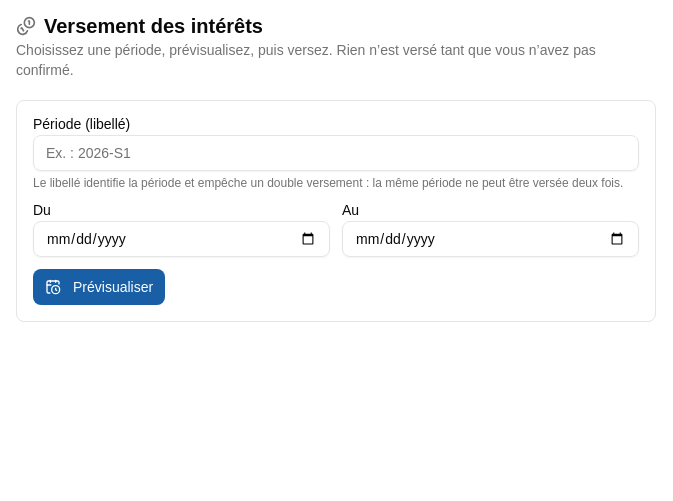
Scenario: PageVersementInterets › taux à 0 : rien à verser, mais l’écran DIT la raison (pas de silence)
Type "2026-S1" into the field labelled "Période (libellé)".
click(336, 153); type("2026-S1")  # box x1=33 y1=135 x2=639 y2=171
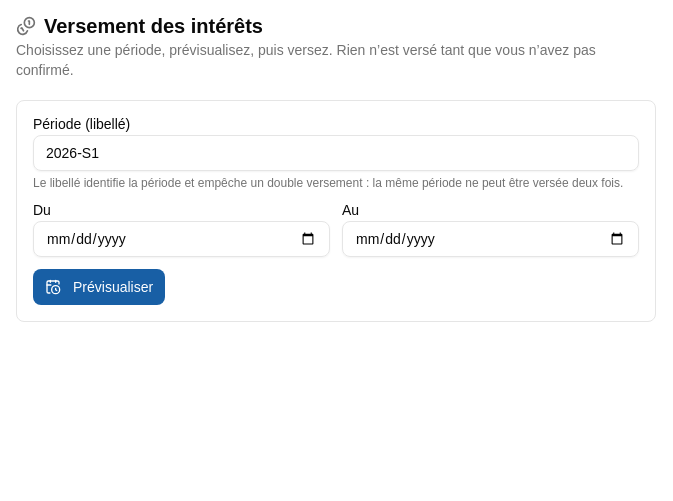
Type "2026-01-01" into the date field labelled "Du".
click(182, 239); type("2026-01-01")  # box x1=33 y1=221 x2=330 y2=257
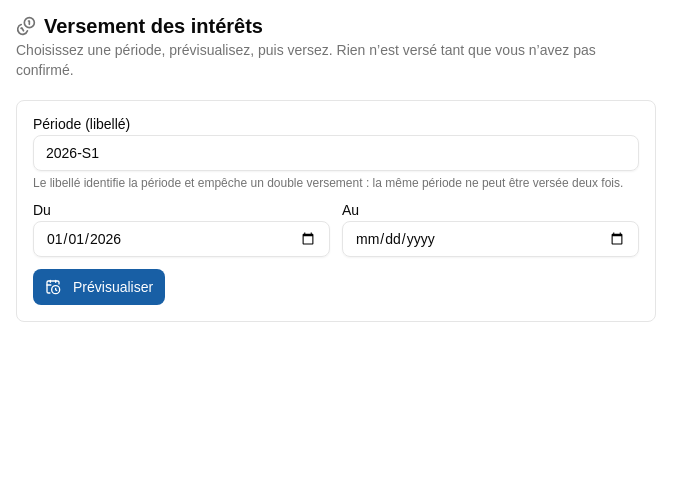
Type "2026-06-30" into the date field labelled "Au".
click(490, 239); type("2026-06-30")  # box x1=342 y1=221 x2=639 y2=257
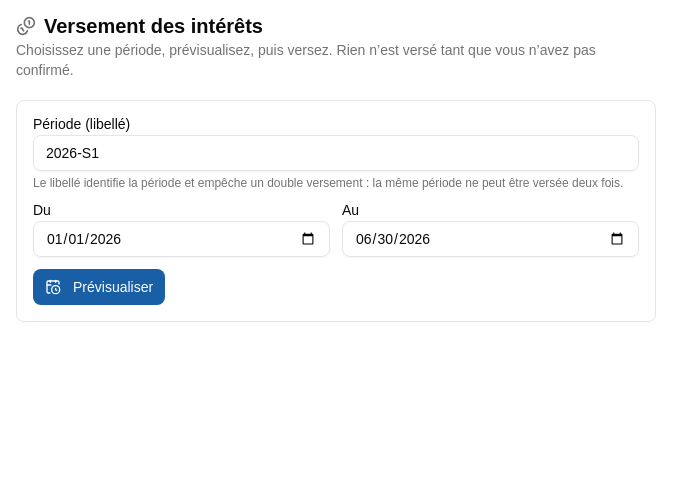
Click the button "Prévisualiser".
click(99, 287)  # box x1=33 y1=269 x2=165 y2=305
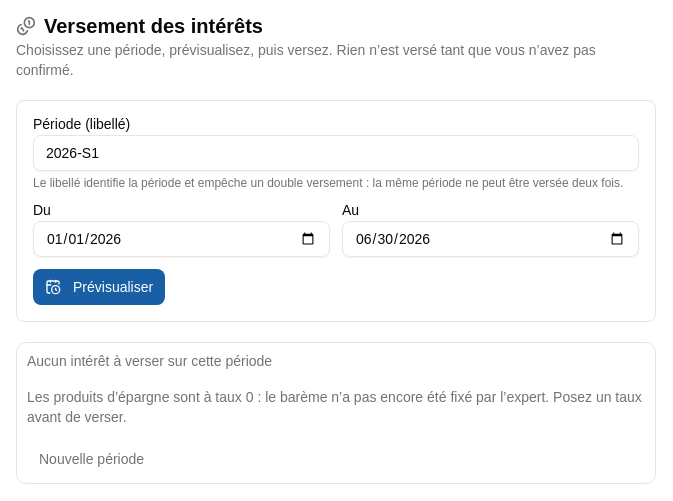
expect the text "Aucun intérêt à verser sur cette période" is shown: met, box x1=27 y1=353 x2=272 y2=369
expect the text "produits d’épargne sont à taux 0" is shown: met, box x1=27 y1=389 x2=642 y2=425
